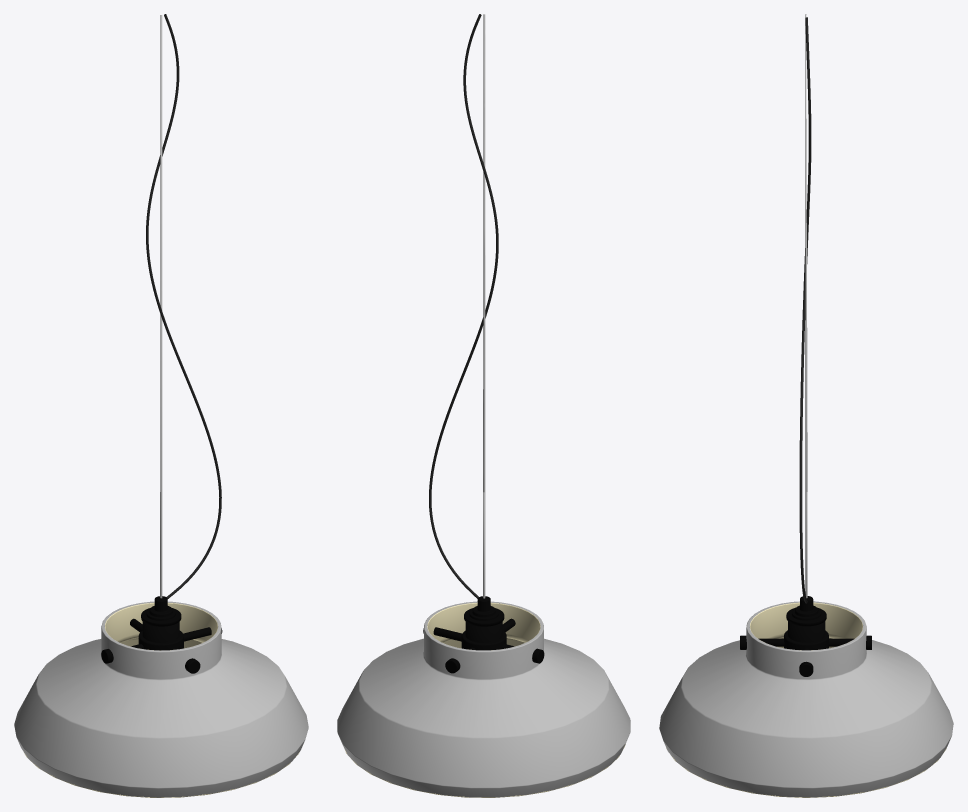
File: L0_Lamp.fbx
The picture shows the model from 3 angles, left to right: view 1: azimuth 30°, elevation 25°; view 2: azimuth 150°, elevation 25°; view 3: azimuth 270°, elevation 25°; orthographic projection.
Parts seen in each view (by area): view 1: Lampatron ZIEL01; view 2: Lampatron ZIEL01; view 3: Lampatron ZIEL01.
Part boxes in pixels (box(x1,y1,x2,y2)): Lampatron ZIEL01: box(14, 14, 308, 797); Lampatron ZIEL01: box(337, 14, 630, 797); Lampatron ZIEL01: box(659, 14, 953, 797).
Bounding box in the file's own units: 36.58 × 99.26 × 36.58.
